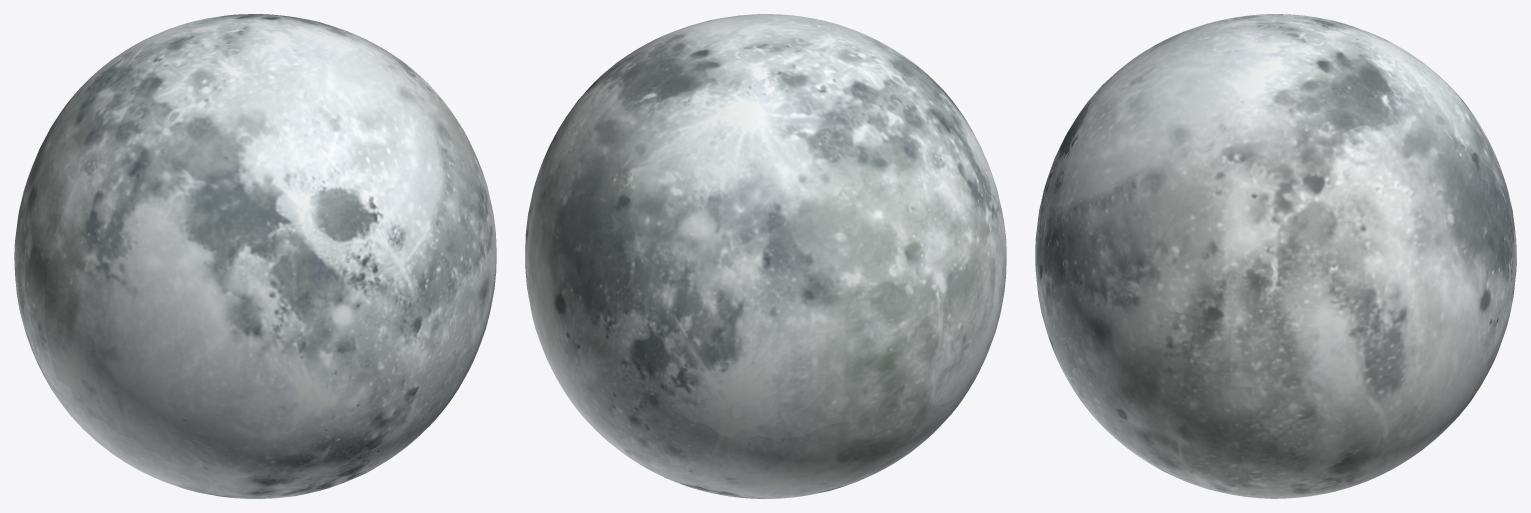
The model's file is moon.glb.
3 views of the same model, side by side, from view 1: azimuth 30°, elevation 25°; view 2: azimuth 150°, elevation 25°; view 3: azimuth 270°, elevation 25° (orthographic).
Visible parts, largest first — view 1: geometry_0; view 2: geometry_0; view 3: geometry_0.
Part boxes in pixels (x1,y1,x2,y2): geometry_0: [14, 14, 496, 498]; geometry_0: [525, 14, 1006, 498]; geometry_0: [1035, 14, 1516, 498].
Size of the model in its own units: 3474800 by 3477538 by 3466274.
Materials: 1 (1 with a texture image).
